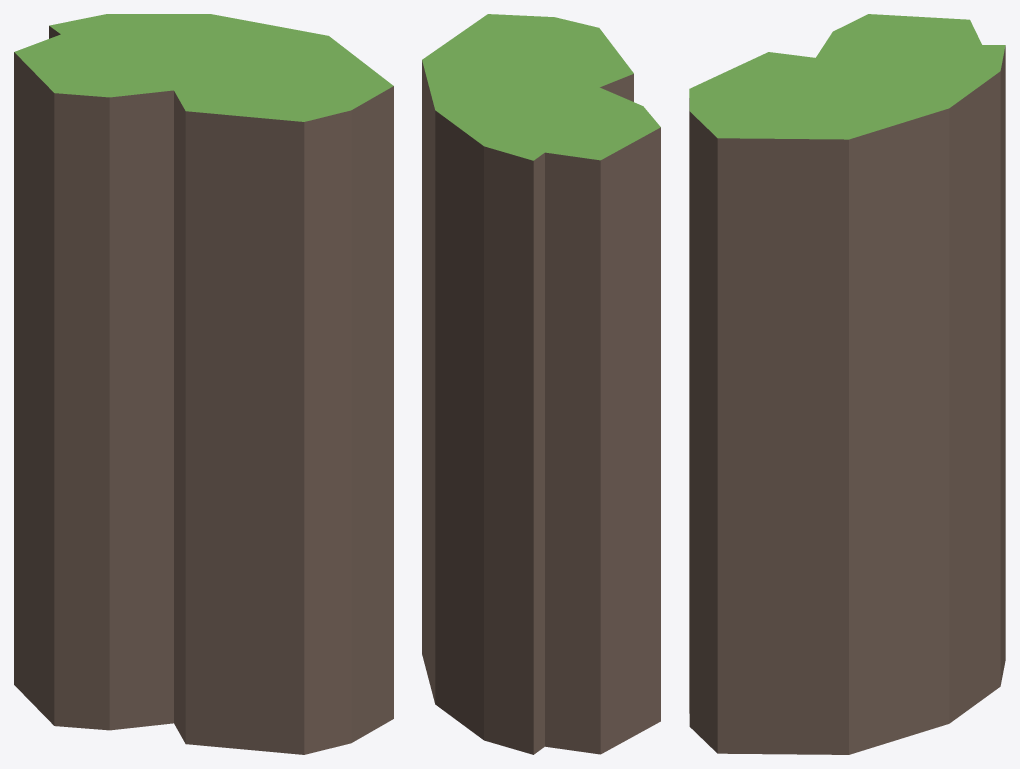
The model's file is Cliff01.fbx.
3 renders of one model, left to right at view 1: azimuth 30°, elevation 25°; view 2: azimuth 150°, elevation 25°; view 3: azimuth 270°, elevation 25°, orthographic. The views are drawn at different scales.
Parts seen in each view (by area): view 1: Cliff2; view 2: Cliff2; view 3: Cliff2.
Part boxes in pixels (x1,y1,x2,y2): Cliff2: [14, 14, 393, 754]; Cliff2: [422, 14, 660, 754]; Cliff2: [689, 14, 1005, 754].
Size of the model in its own units: 0.4301 by 0.9832 by 0.4579.
